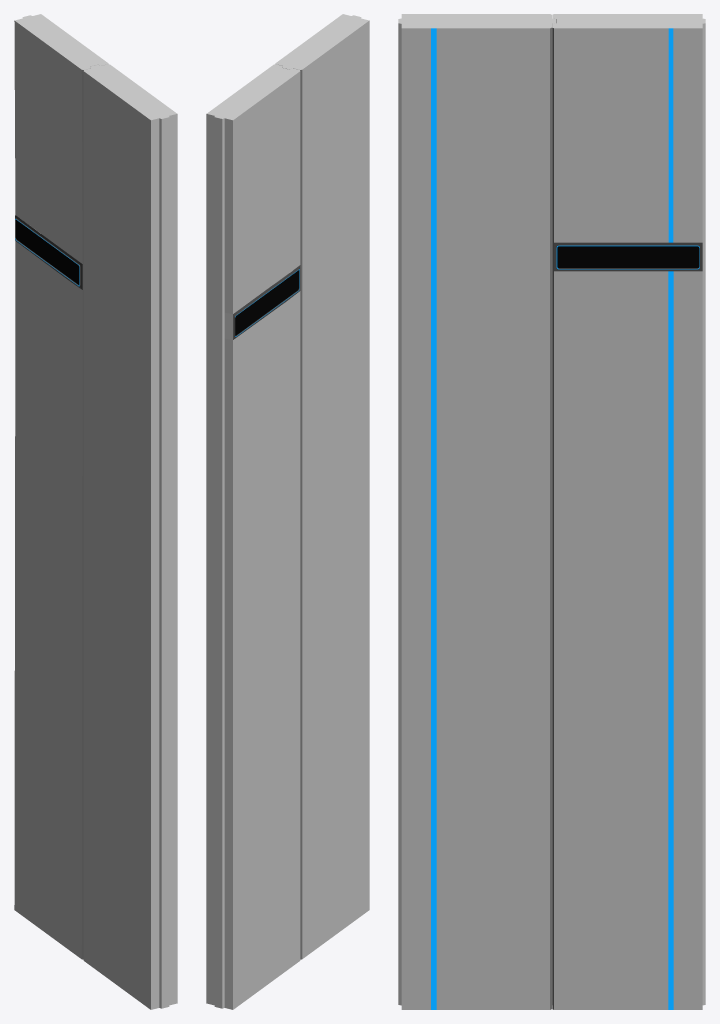
File: door_new.glb
3 renders of one model, left to right at view 1: azimuth 30°, elevation 25°; view 2: azimuth 150°, elevation 25°; view 3: azimuth 270°, elevation 25°, orthographic. The views are drawn at different scales.
Parts seen in each view (by area): view 1: front door NEW FRONT; view 2: front door NEW FRONT; view 3: front door NEW FRONT.
Boxes of the visible parts, x1,y1,x2,y2 form: front door NEW FRONT: [14, 14, 177, 1009]; front door NEW FRONT: [206, 14, 369, 1009]; front door NEW FRONT: [398, 14, 705, 1009].
Size of the model in its own units: 0.0703 by 2.11 by 0.5973.
